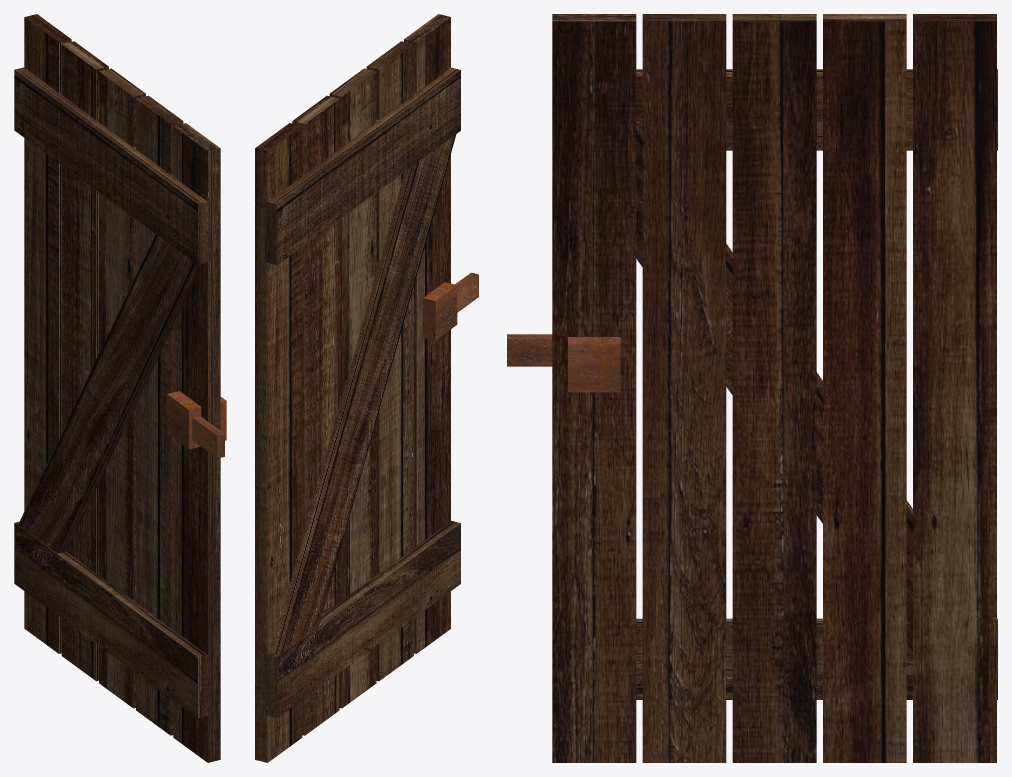
Rendered from wooddoor.fbx.
3 renders of one model, left to right at view 1: azimuth 30°, elevation 25°; view 2: azimuth 150°, elevation 25°; view 3: azimuth 270°, elevation 25°, orthographic. The views are drawn at different scales.
Visible parts, largest first — view 1: Cube, Cube.002, Cube.004, Cube.005; view 2: Cube, Cube.002, Cube.004, Cube.005; view 3: Cube, Cube.002, Cube.004, Cube.005.
Boxes of the visible parts, x1,y1,x2,y2 form: Cube: (24,14,220,762); Cube.002: (14,67,210,717); Cube.004: (167,391,226,449); Cube.005: (192,415,224,458); Cube: (255,14,450,762); Cube.002: (264,67,460,718); Cube.004: (423,282,457,340); Cube.005: (455,272,478,312); Cube: (552,14,996,762); Cube.002: (636,69,997,699); Cube.004: (568,337,620,392); Cube.005: (507,334,552,366).
Bounding box in the file's own units: 47.37 × 733 × 440.
